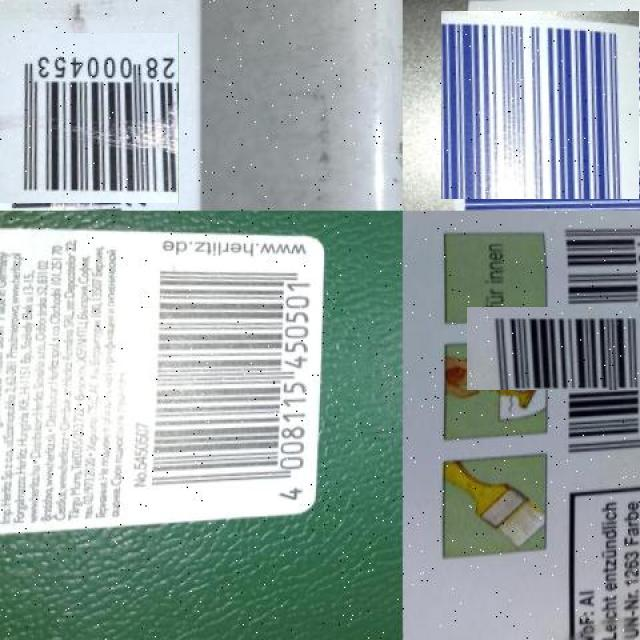Barcode: (148, 260, 317, 513), (446, 5, 640, 205), (0, 28, 174, 206), (511, 261, 640, 435)
